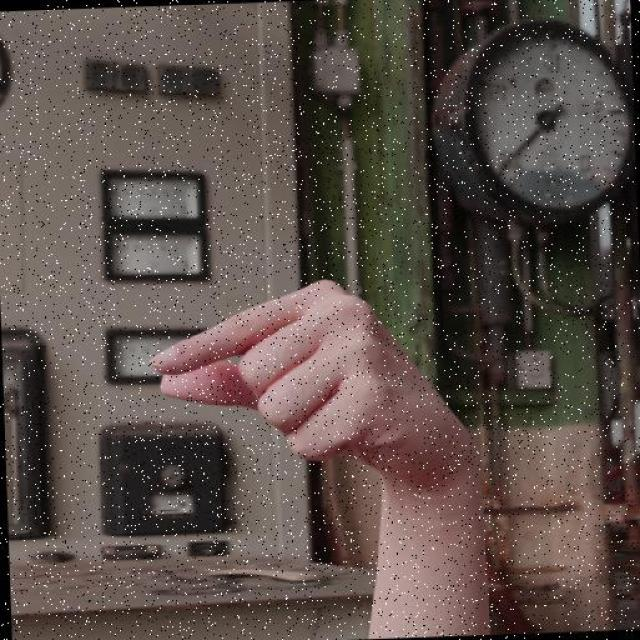G: (128, 264, 486, 500)
